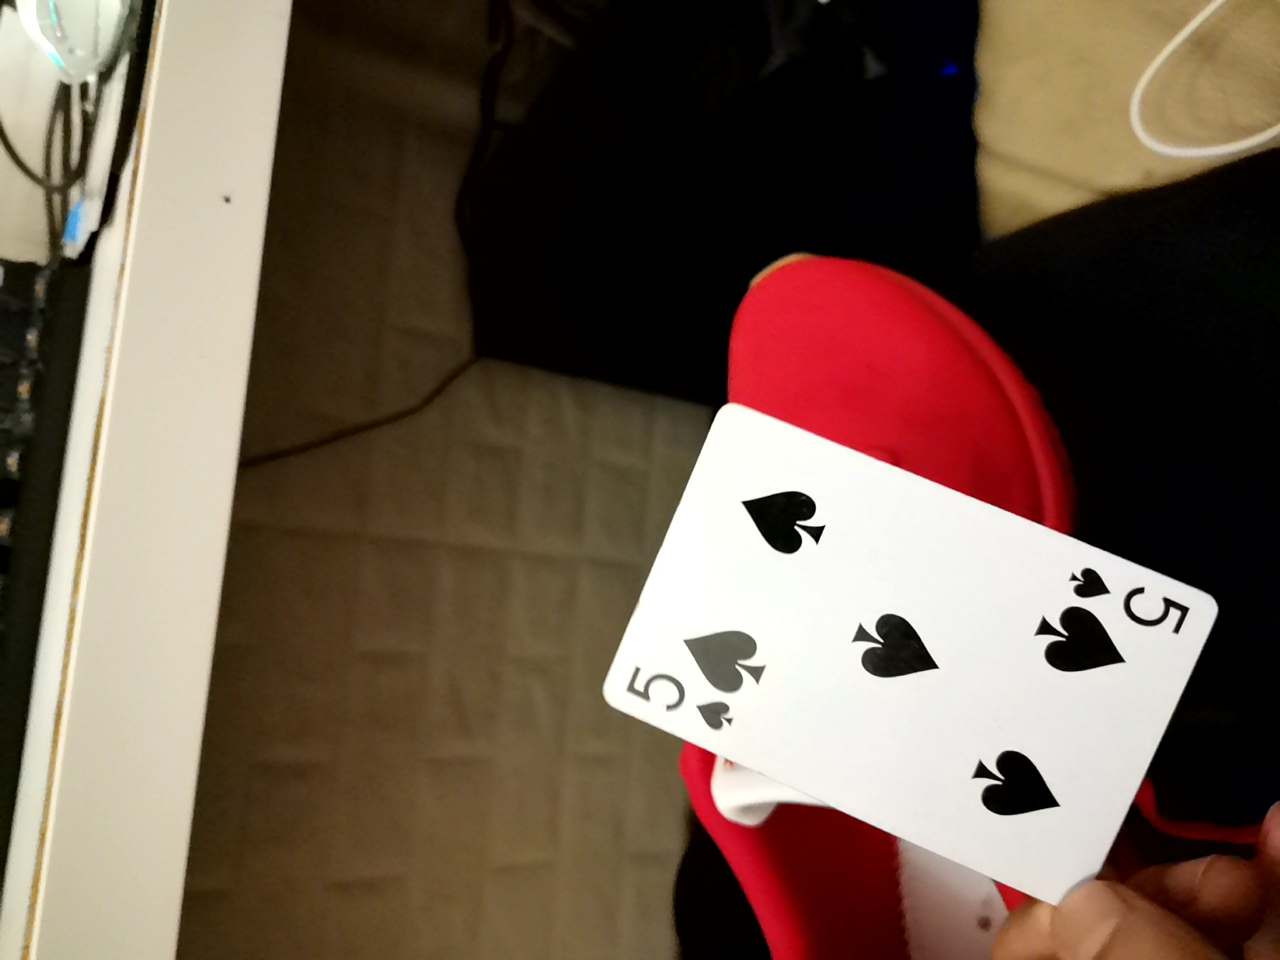ht 5: (591, 453, 1193, 905)
